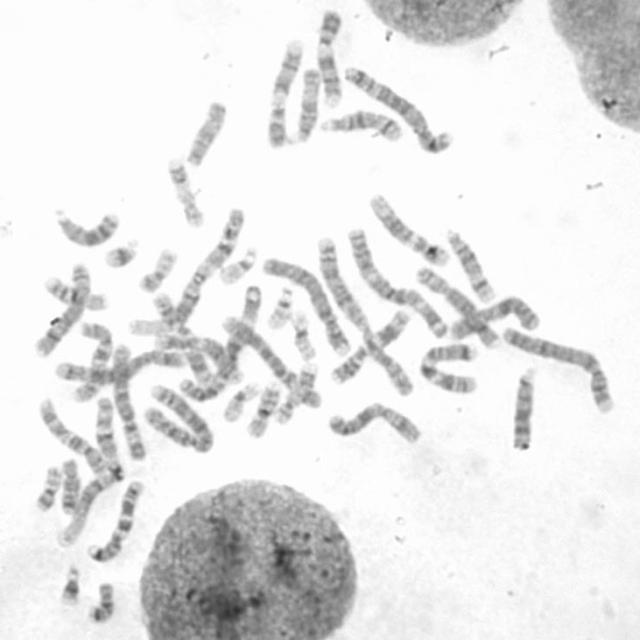A1: (121, 200, 249, 338), (51, 389, 123, 548)
A2: (309, 228, 417, 397), (138, 375, 216, 455)
A3: (341, 220, 450, 340), (174, 277, 266, 402)
B4: (496, 318, 617, 415), (256, 248, 354, 357)
B5: (337, 58, 455, 155), (49, 342, 188, 386)
C10: (32, 391, 111, 476), (67, 315, 115, 405)
C11: (147, 286, 245, 386), (324, 302, 412, 386)
C12: (362, 184, 452, 268), (148, 326, 246, 385)
C6: (217, 307, 323, 411), (105, 337, 148, 463)
C7: (81, 473, 146, 564), (413, 336, 482, 395)
C8: (409, 260, 502, 351), (28, 258, 93, 358)
C9: (260, 32, 306, 150), (310, 2, 346, 109)
D13: (47, 202, 122, 248), (504, 361, 540, 452)
D14: (439, 222, 497, 304), (314, 103, 404, 143)
D15: (178, 94, 228, 168), (284, 61, 322, 146)
E16: (37, 269, 109, 312), (240, 376, 283, 439)
E17: (269, 356, 320, 426), (161, 152, 206, 228)
E18: (80, 575, 118, 625), (55, 452, 82, 516)
F19: (217, 375, 263, 424), (284, 304, 318, 362)
F20: (132, 241, 180, 293), (28, 458, 64, 513)
G21: (97, 232, 142, 270), (54, 557, 84, 608)
G22: (212, 240, 259, 286), (261, 280, 296, 331)
X: (443, 288, 541, 342), (320, 396, 424, 446)
